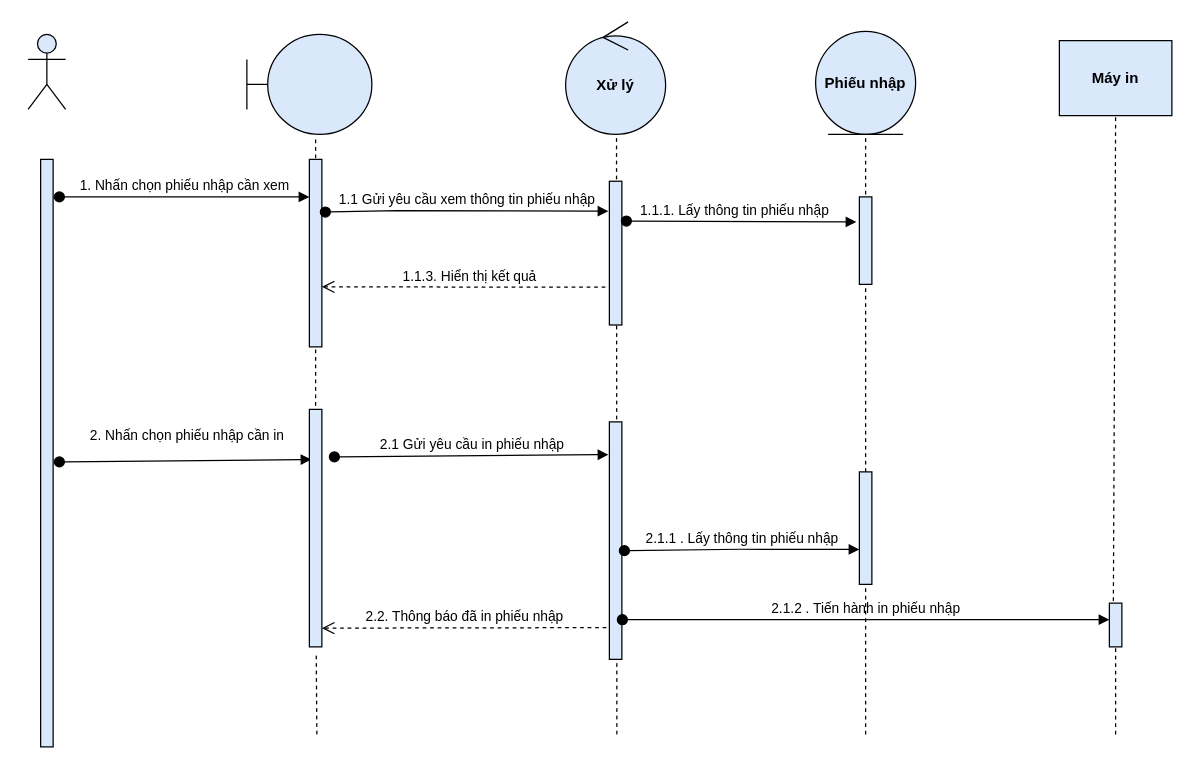
Image size: 1194x769. Some labels were removed from this diagram. Here are the shapes that lost their labels. From the top down, the centre of each, then its label:
the point at 46,71: Quản lý
the point at 309,83: form Quản lý phiếu nhập
